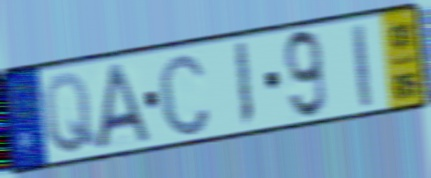9: (282, 28, 329, 123)
A: (95, 60, 152, 153)
C: (155, 49, 213, 140)
I: (349, 20, 375, 112), (232, 39, 256, 131)
Q: (41, 70, 101, 157)
